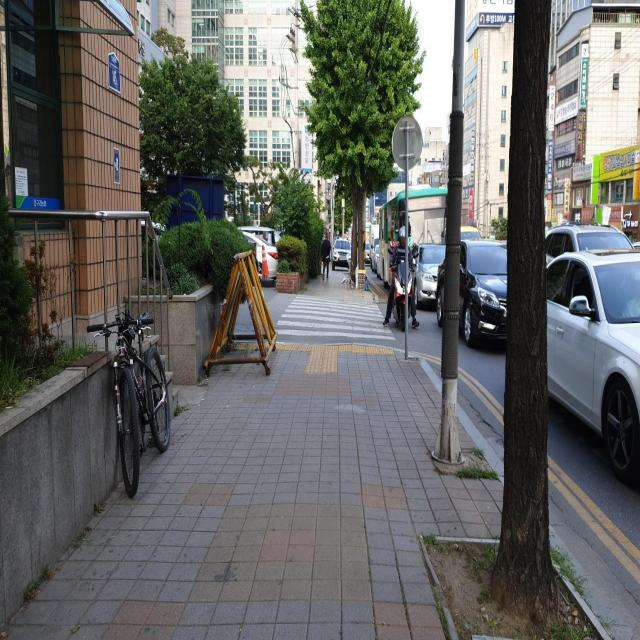횡단보도: (273, 294, 396, 342)
